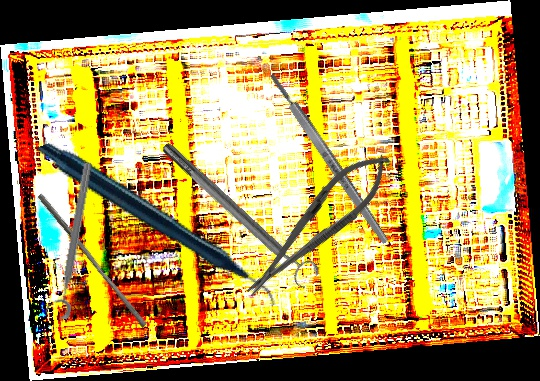Fixation Ring: (154, 133, 324, 293), (43, 159, 97, 321)
Handpiece: (36, 87, 277, 365)
Needle Holder: (231, 138, 403, 311)
Pusher: (31, 192, 153, 329)
Scalpel Handle: (267, 70, 391, 247)
